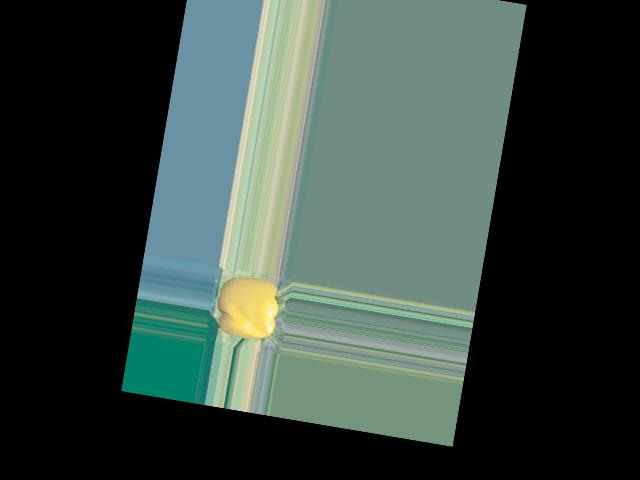bell_pepper: (210, 268, 289, 348)
